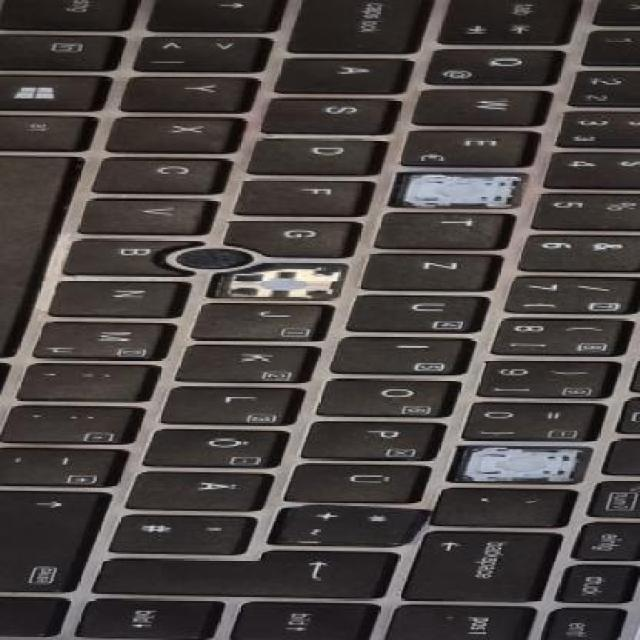Keyboard problems: (437, 427, 600, 491), (383, 150, 536, 215), (201, 245, 356, 306)
